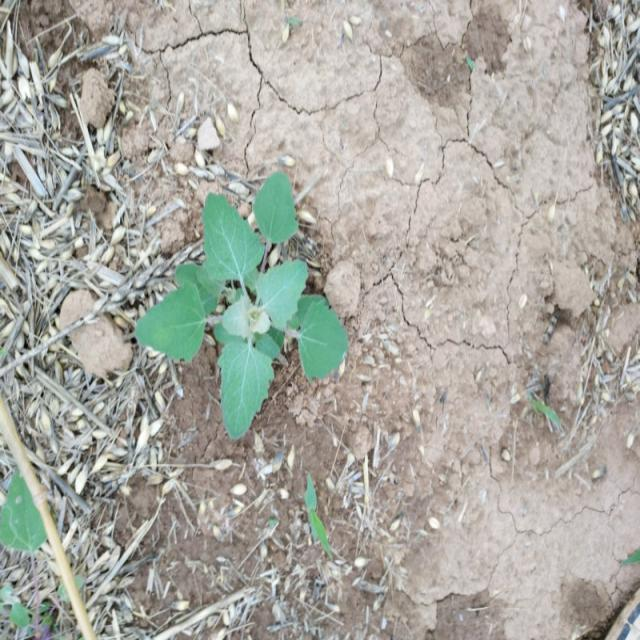goosefoots: (130, 179, 380, 452)
